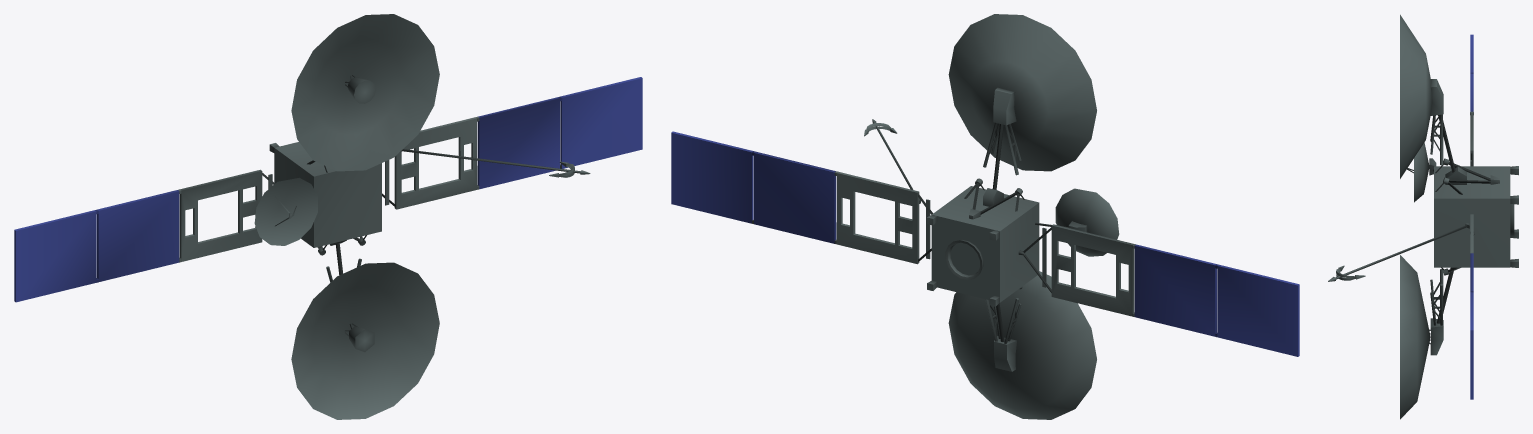
The model's file is space-satellites-communications-satellite_v2.fbx.
The picture shows the model from 3 angles, left to right: view 1: azimuth 30°, elevation 25°; view 2: azimuth 150°, elevation 25°; view 3: azimuth 270°, elevation 25°; orthographic projection. The views are drawn at different scales.
Parts seen in each view (by area): view 1: Communications Satellite_v2; view 2: Communications Satellite_v2; view 3: Communications Satellite_v2.
Part boxes in pixels (x1,y1,x2,y2): Communications Satellite_v2: (14, 14, 642, 419); Communications Satellite_v2: (671, 14, 1299, 419); Communications Satellite_v2: (1328, 14, 1518, 419).
Size of the model in its own units: 12 by 7.39 by 3.27.
